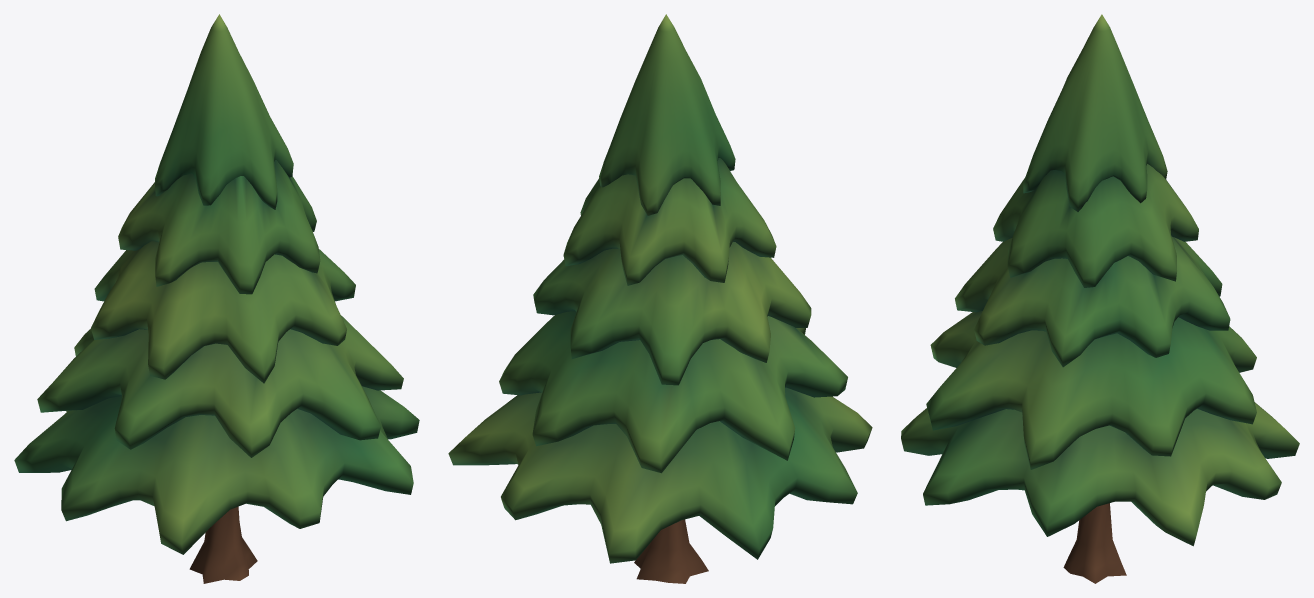
Rendered from tree_pine.glb.
3 renders of one model, left to right at view 1: azimuth 30°, elevation 25°; view 2: azimuth 150°, elevation 25°; view 3: azimuth 270°, elevation 25°, orthographic.
Visible parts, largest first — view 1: tree_pine; view 2: tree_pine; view 3: tree_pine.
Part boxes in pixels (left/top/right/bottom): tree_pine: left=14, top=14, right=419, bottom=583; tree_pine: left=448, top=14, right=872, bottom=583; tree_pine: left=901, top=14, right=1299, bottom=583.
Bounding box in the file's own units: 5.59 × 8.54 × 5.58.
